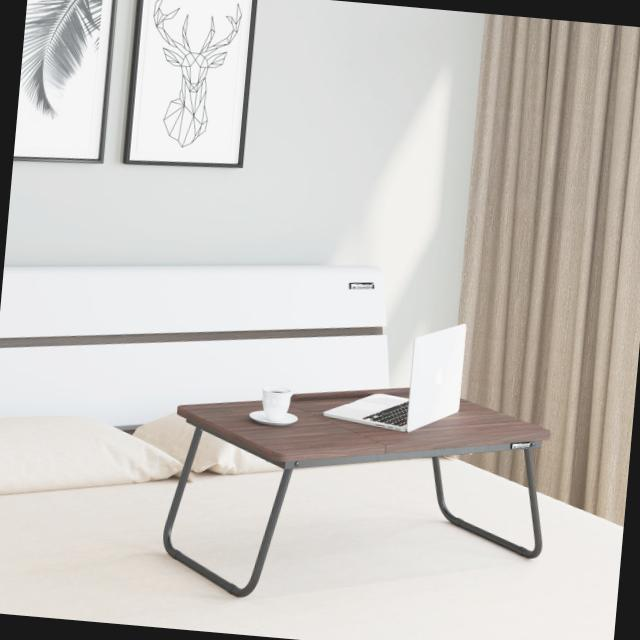obstacle: (126, 288, 640, 606)
